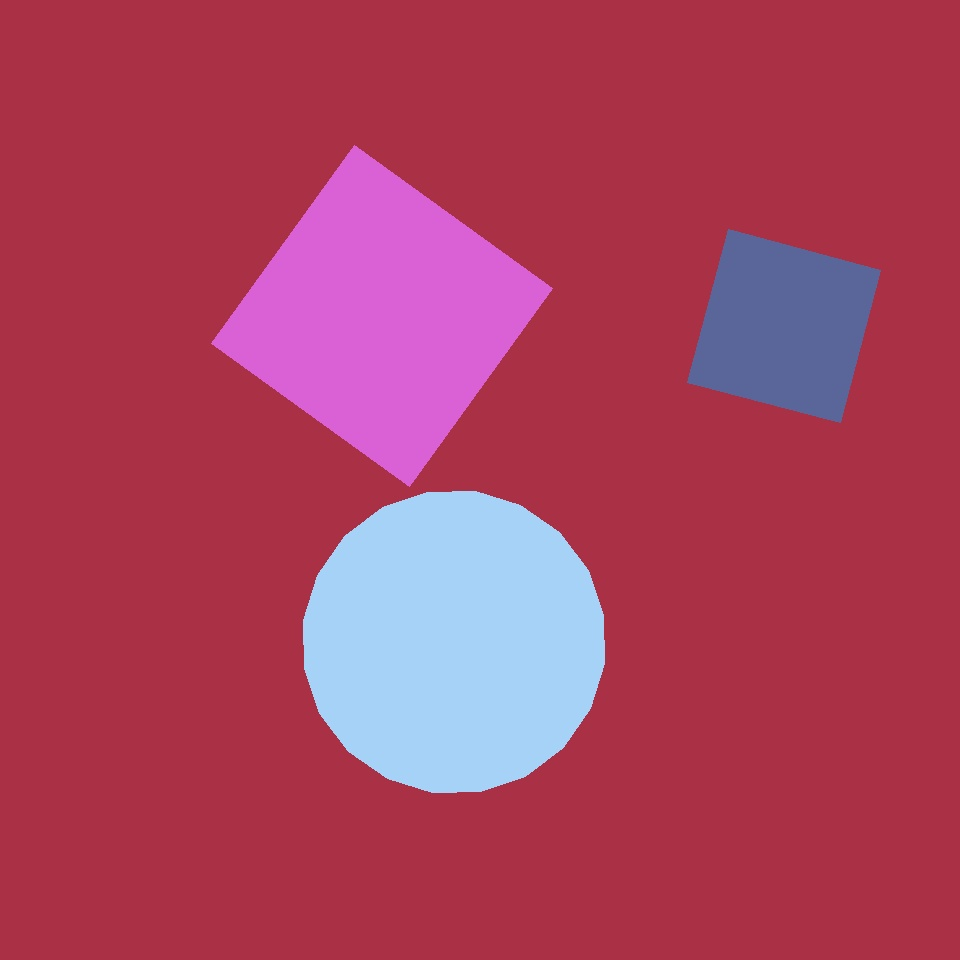square: (211, 146, 552, 487), (687, 230, 880, 422)
triangle: (304, 492, 604, 792)
